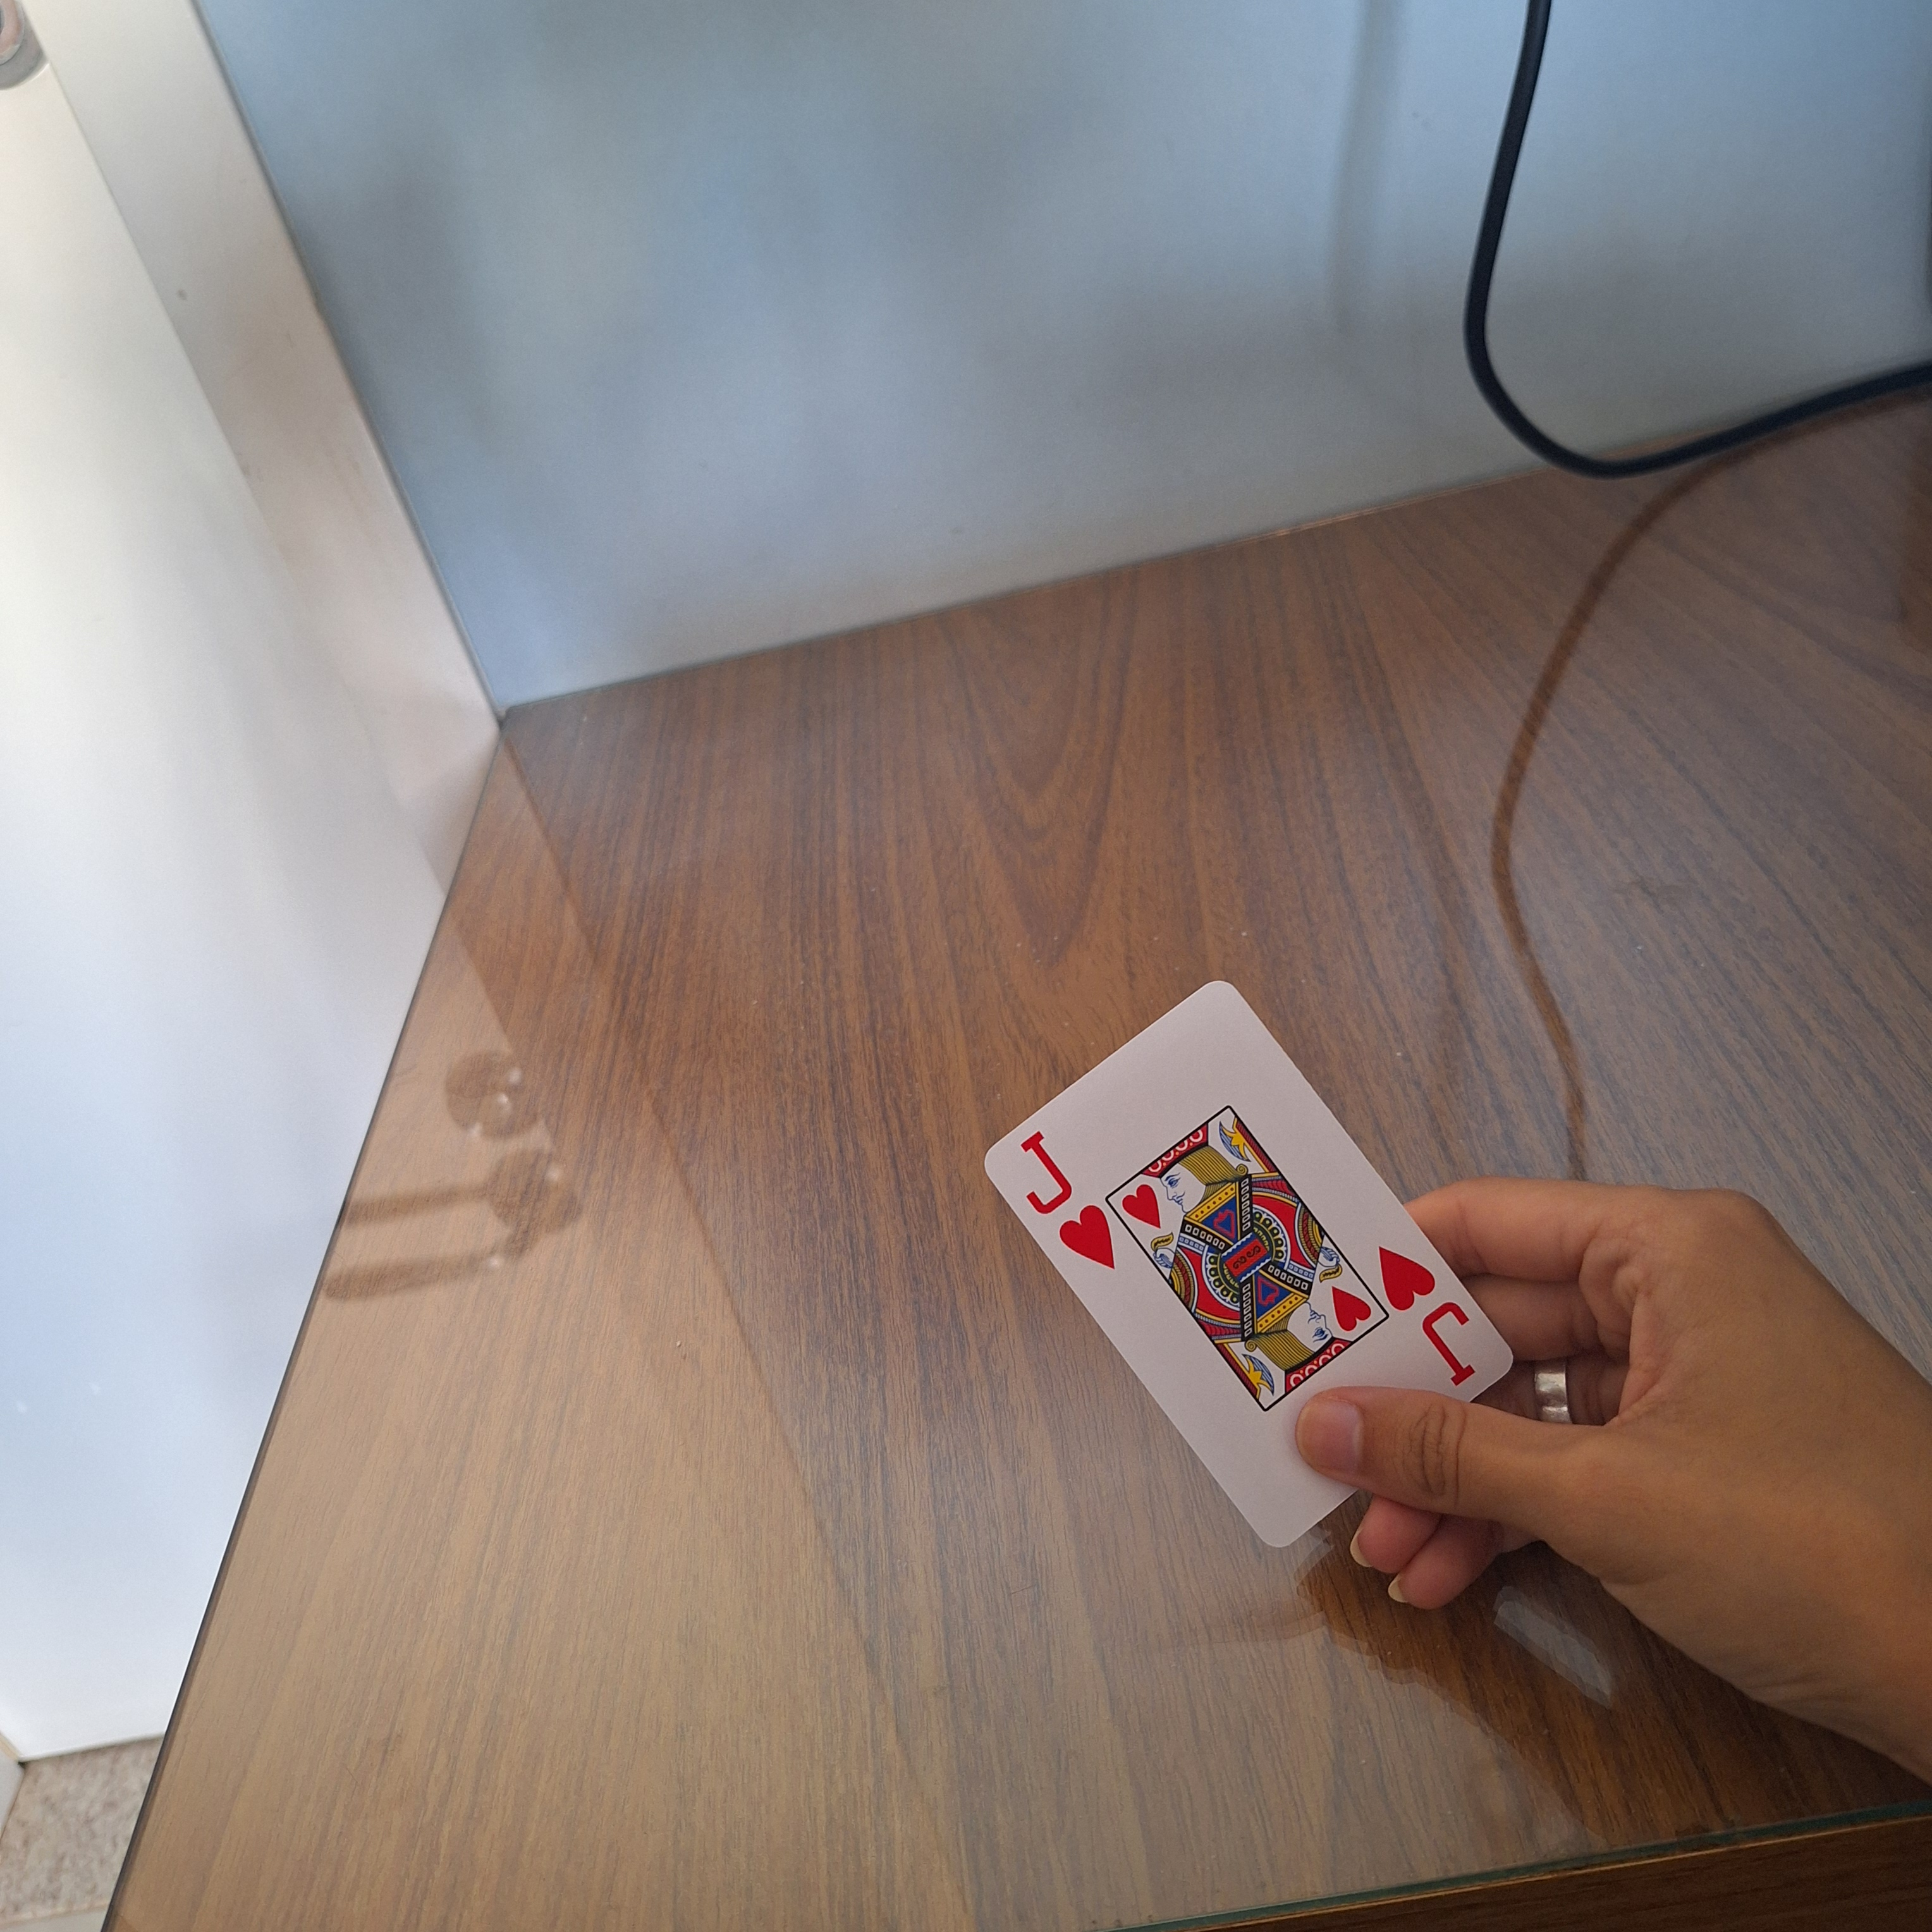JC: (1371, 1240, 1497, 1389), (1008, 1123, 1120, 1274)
